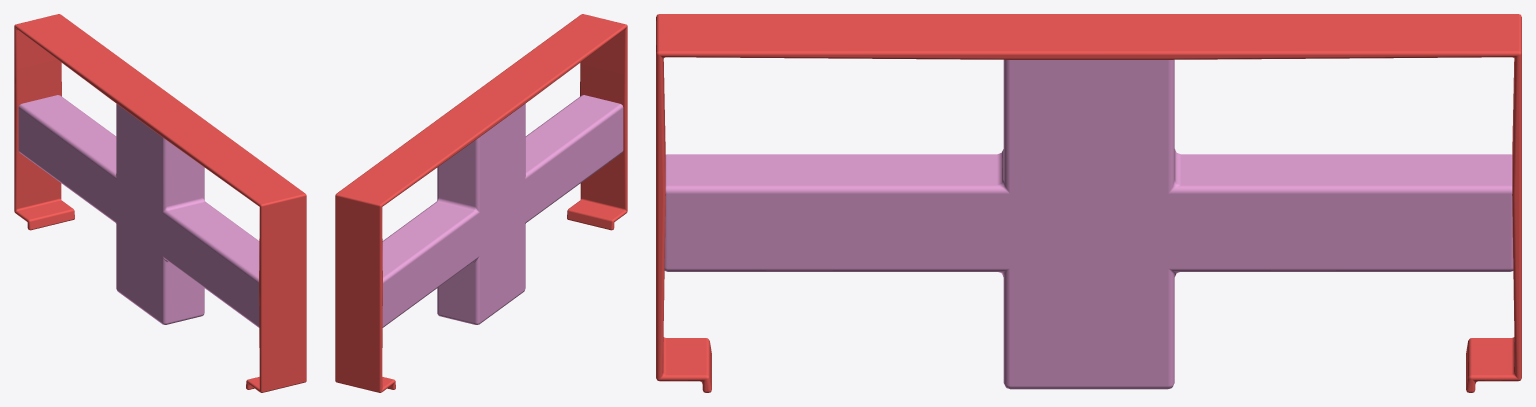
The model's file is wall08.fbx.
The picture shows the model from 3 angles, left to right: view 1: azimuth 30°, elevation 25°; view 2: azimuth 150°, elevation 25°; view 3: azimuth 270°, elevation 25°; orthographic projection. The views are drawn at different scales.
Parts seen in each view (by area): view 1: png8, wallOutside.002; view 2: png8, wallOutside.002; view 3: png8, wallOutside.002.
Boxes of the visible parts, left/top/right/bottom form: png8: left=18, top=95, right=259, bottom=327; wallOutside.002: left=14, top=14, right=306, bottom=392; png8: left=382, top=95, right=623, bottom=327; wallOutside.002: left=335, top=14, right=627, bottom=392; png8: left=664, top=59, right=1513, bottom=389; wallOutside.002: left=656, top=14, right=1521, bottom=392.
Size of the model in its own units: 218 by 878 by 2014.
